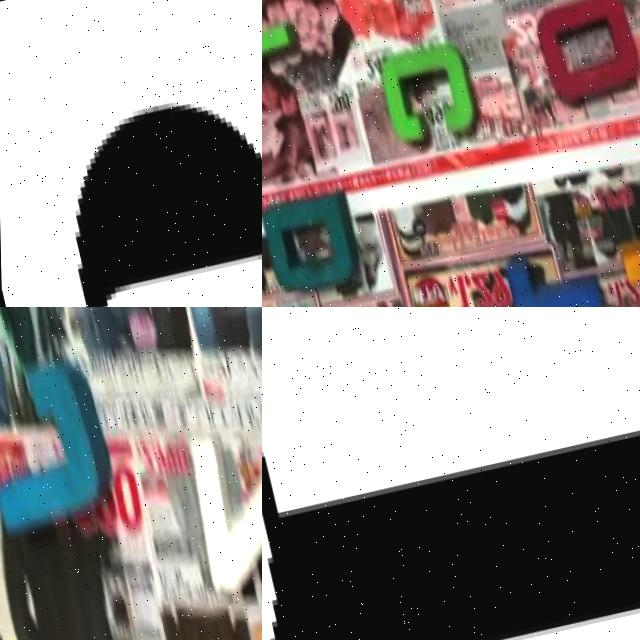1: (262, 341, 640, 640)
8: (23, 0, 262, 307)
C: (375, 41, 480, 146)
D: (262, 187, 358, 295)
J: (0, 361, 118, 540)
L: (612, 224, 640, 307)
O: (527, 0, 639, 107)
T: (498, 241, 604, 307)
Y: (262, 5, 302, 98)
Z: (174, 410, 262, 629)
